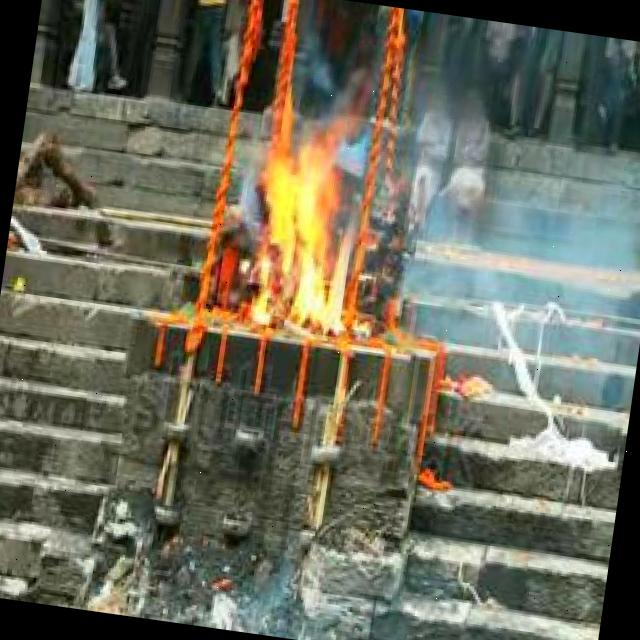fire: (238, 123, 370, 340)
